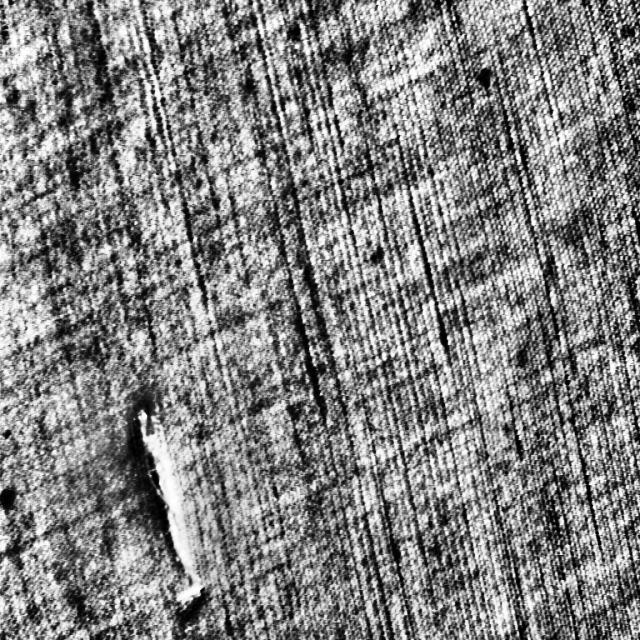Hole: (118, 367, 217, 630)
